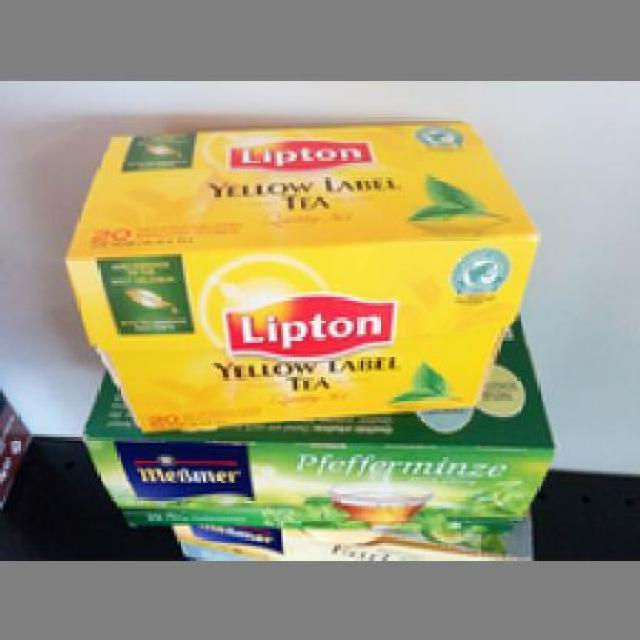Tea: (62, 115, 535, 432)
